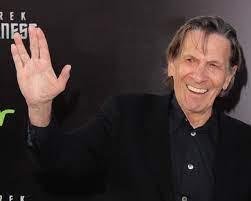LiveLong: (10, 24, 70, 103)
